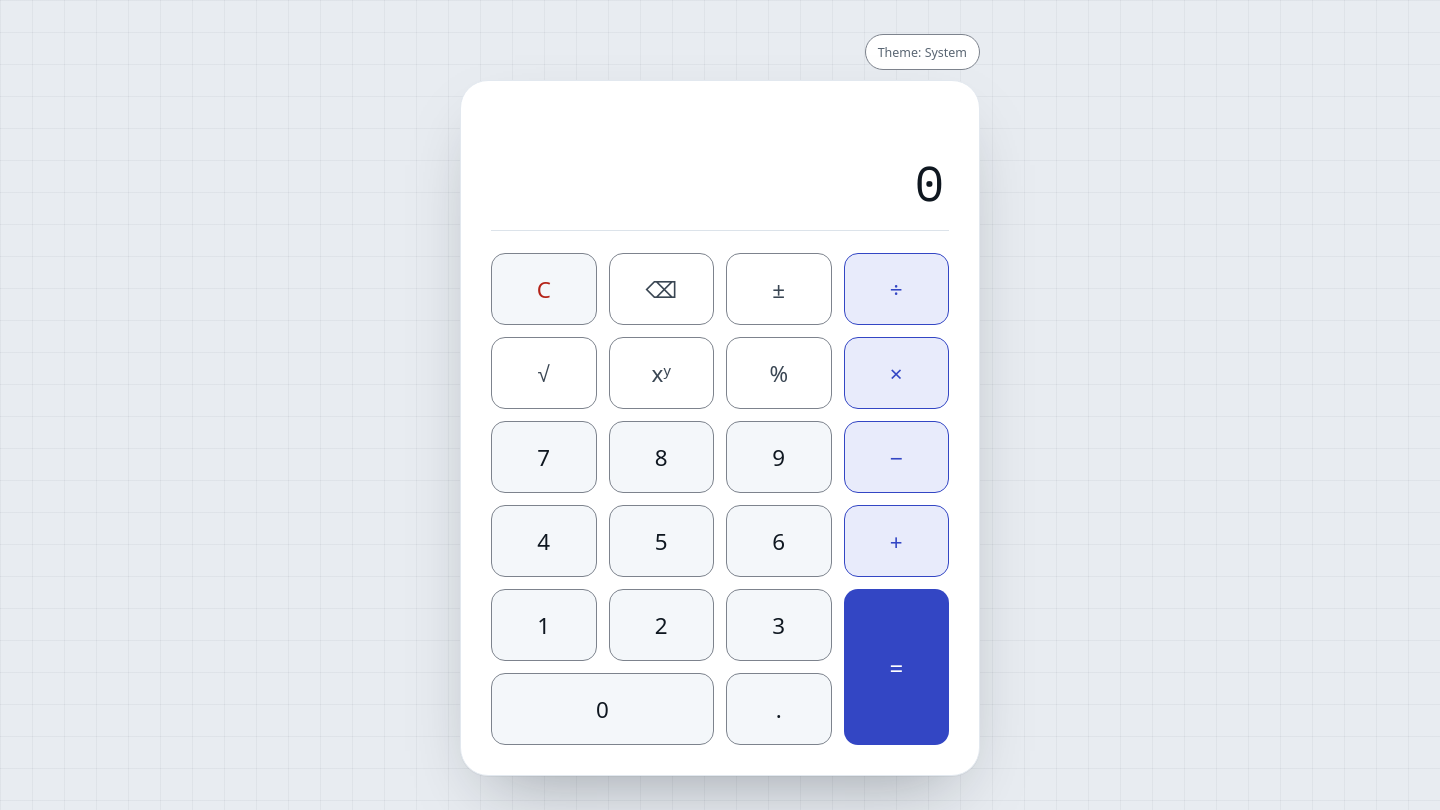
it: app › renders a refusal, hides the code, and recovers on clear
Click the button "1". click: click(544, 625)
box: [491,589,596,661]
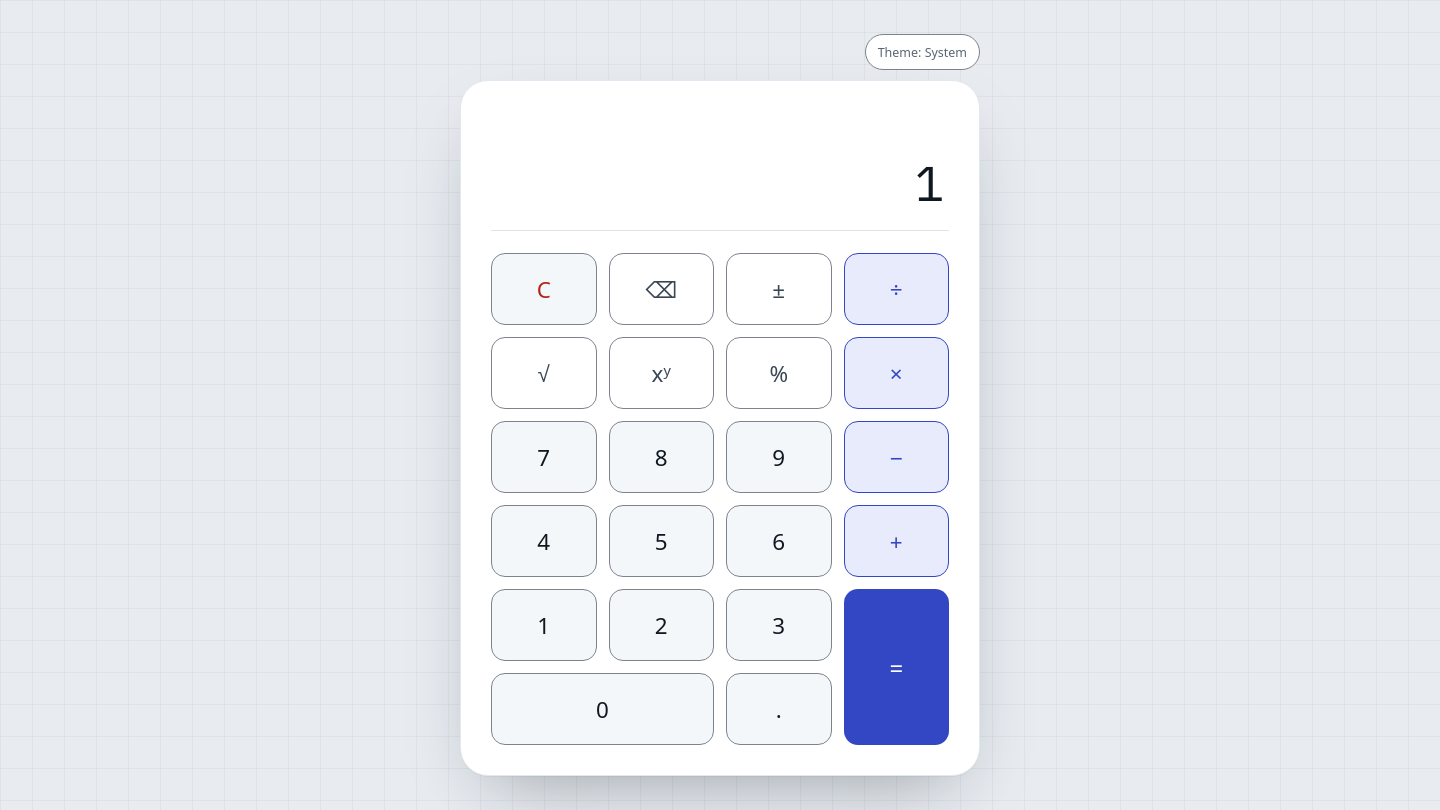
Click the button "0". click: click(602, 709)
box: [491,673,714,745]
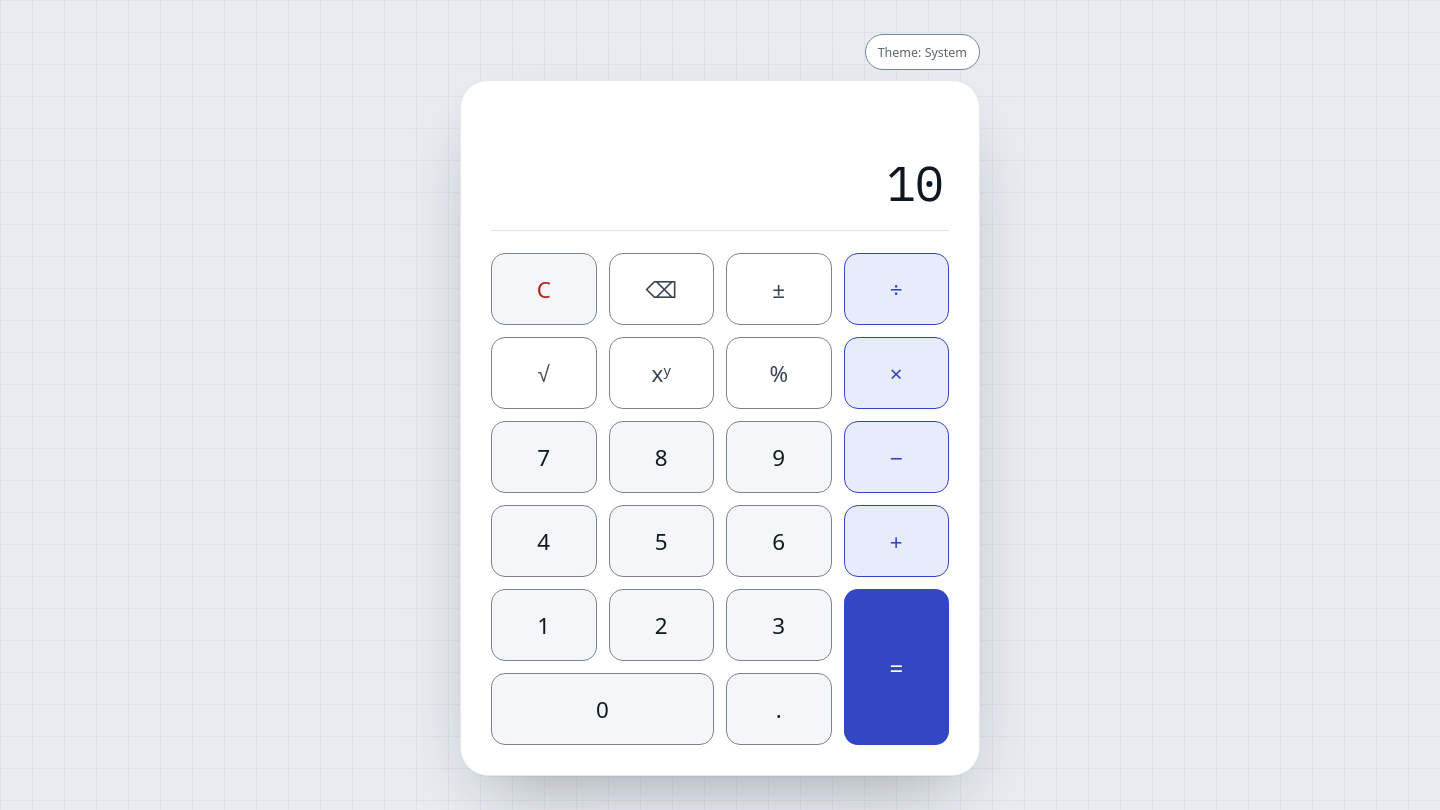
Click the button named "divide". click: click(896, 289)
box: [844,253,949,325]
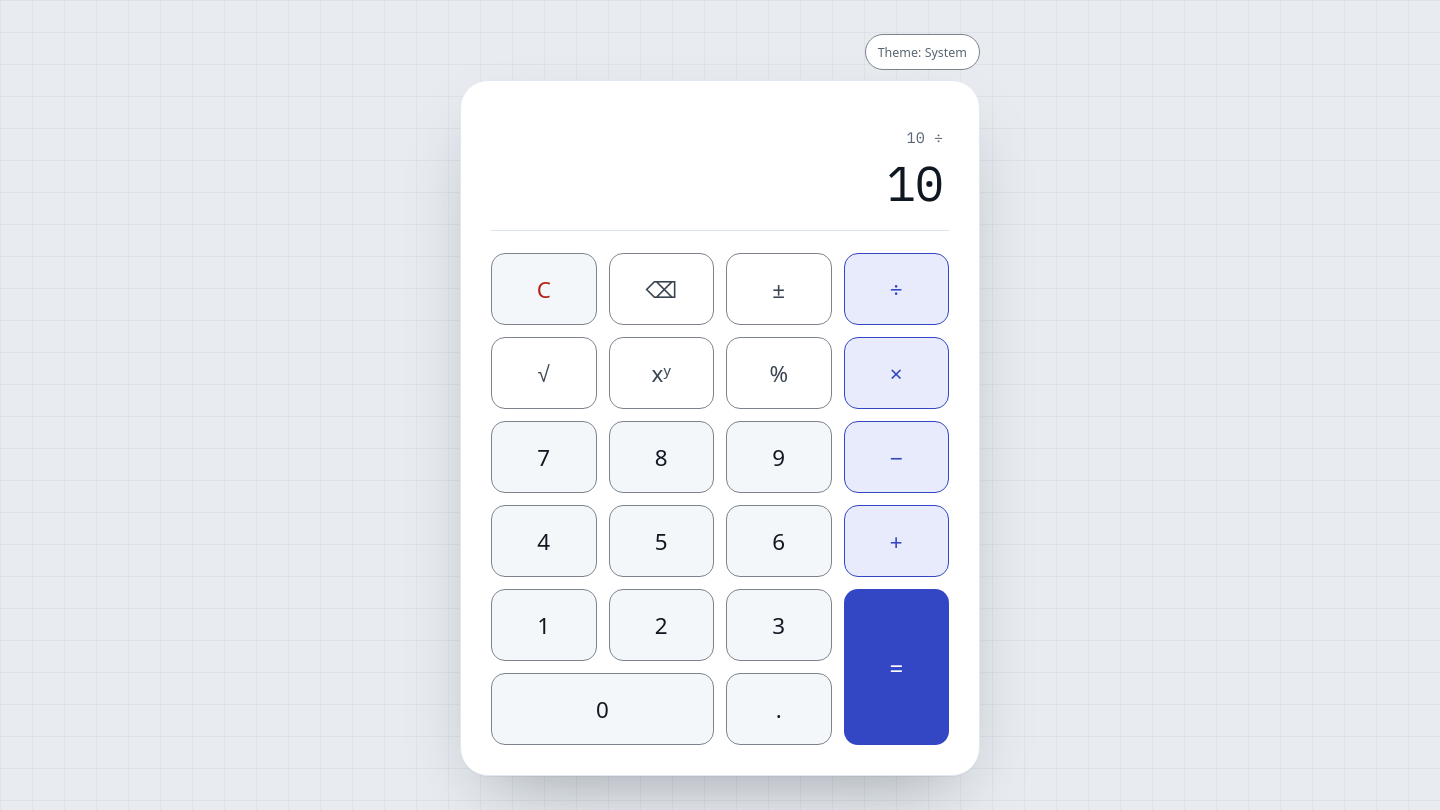
Click the button "0". click: click(602, 709)
box: [491,673,714,745]
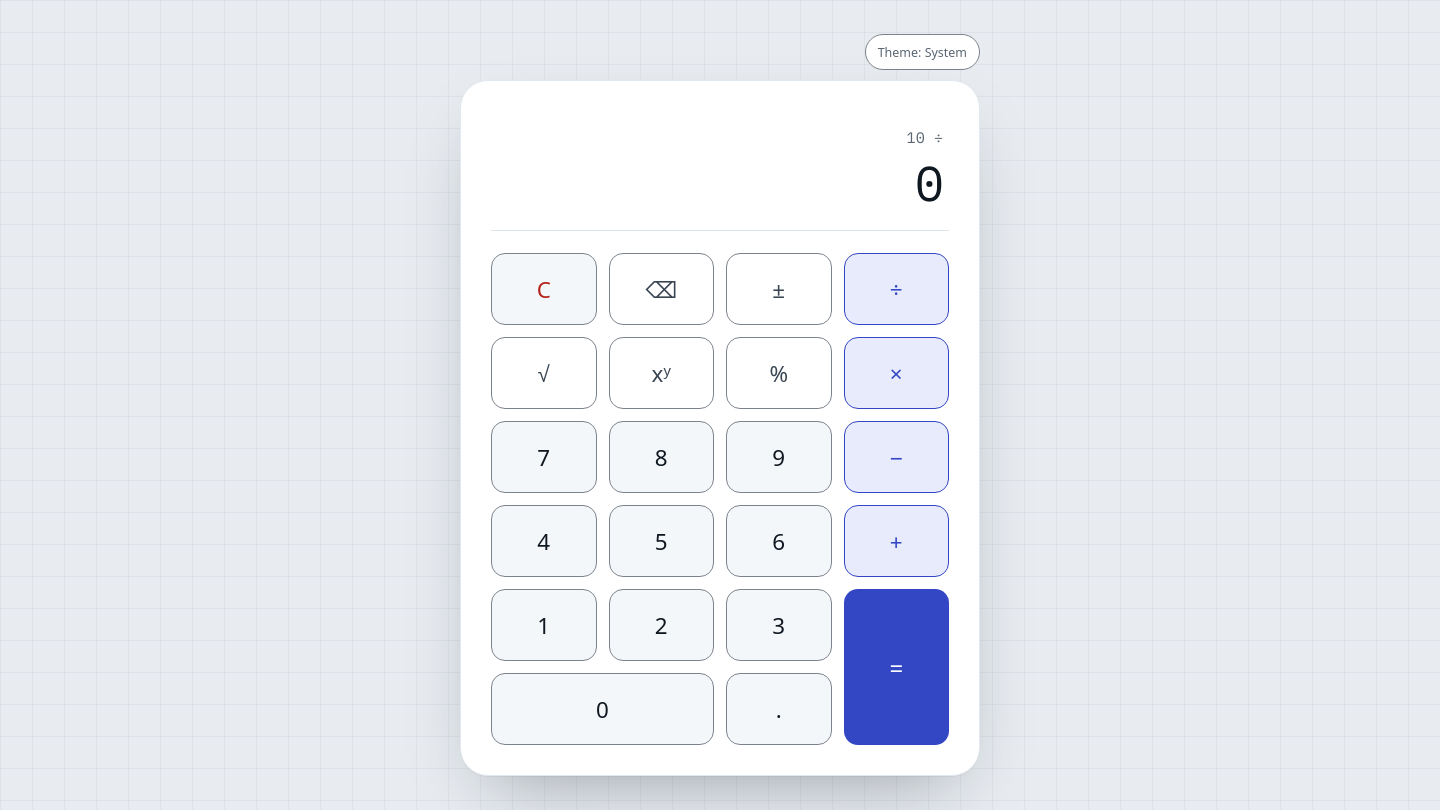
Click the button named "equals". click: click(896, 667)
box: [844,589,949,745]
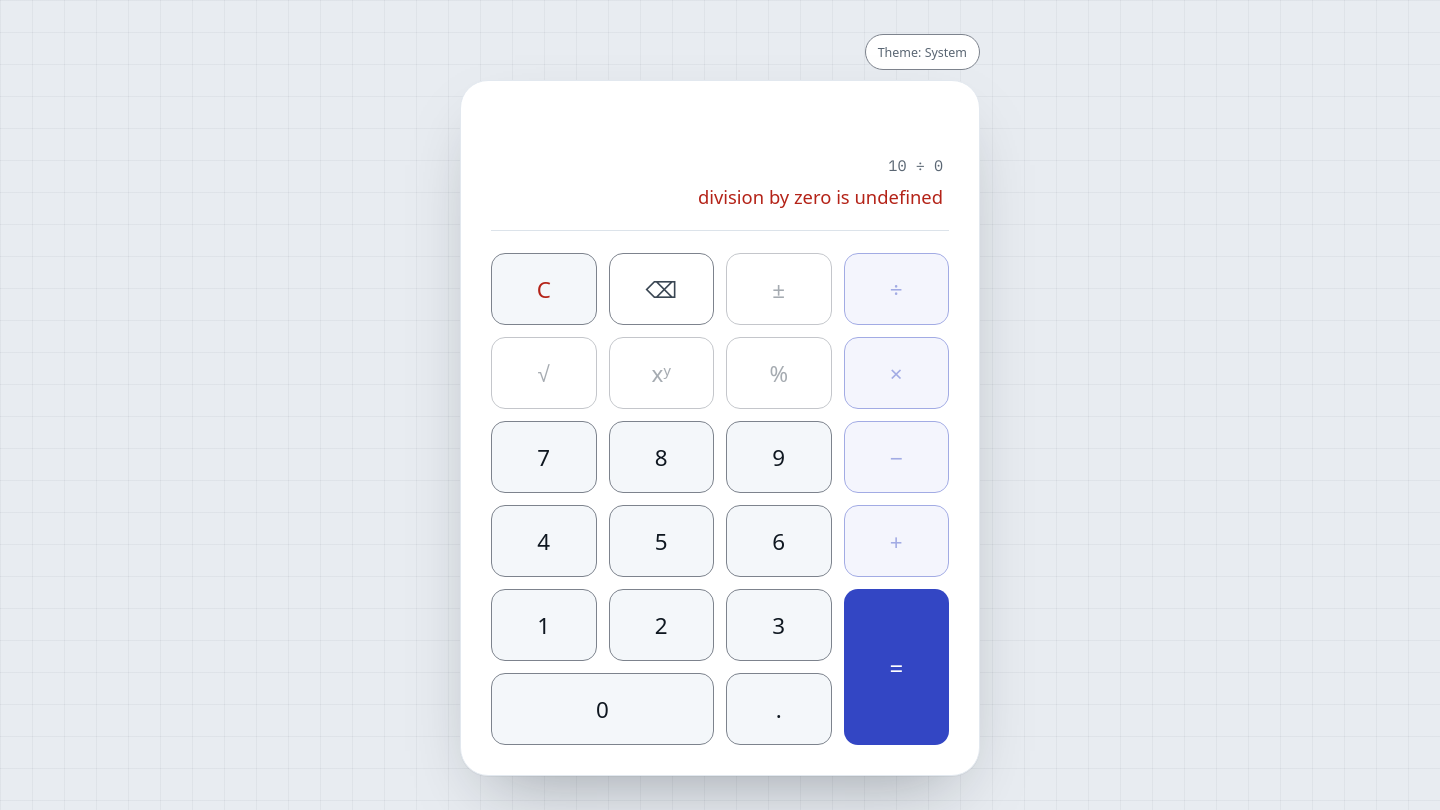
expect the text with test id "value" does not show "division_by_zero": met, box [698,184,943,209]
expect the text with test id "value" reads "division by zero is undefined": met, box [698,184,943,209]
Click the button named "clear". click: click(544, 289)
box: [491,253,596,325]
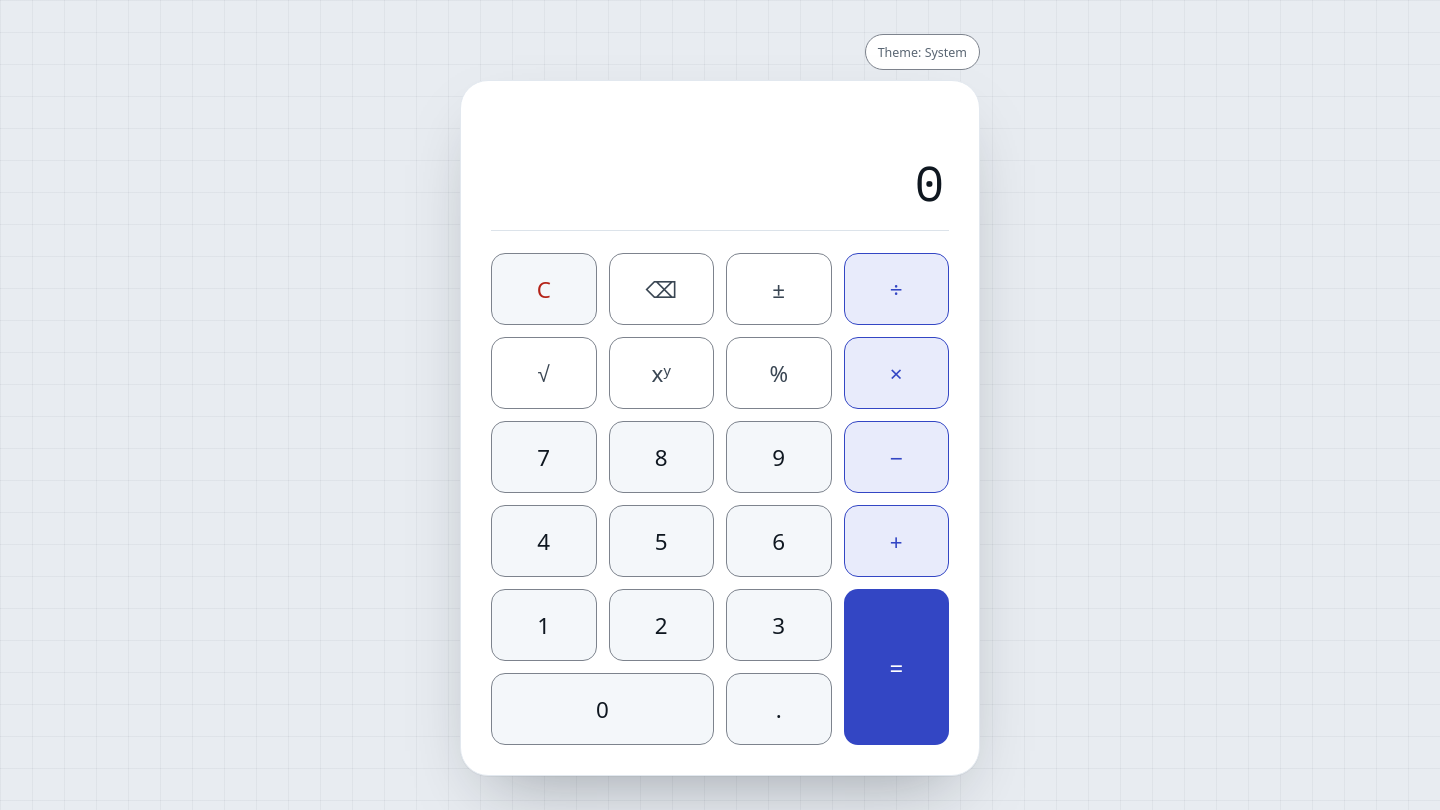
expect the text with test id "value" reads "0": met, box [915,151,943,214]
